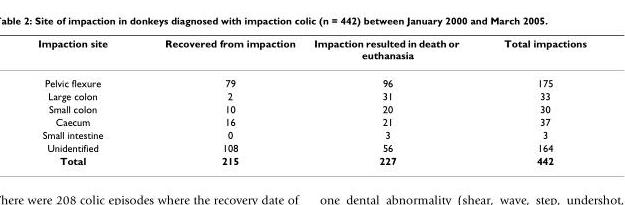table: (37, 36, 585, 166)
table column: (304, 36, 480, 166), (135, 36, 304, 166), (480, 36, 585, 166), (37, 36, 135, 166)
table column header: (37, 36, 585, 68)
table row: (37, 36, 585, 68), (37, 68, 585, 89), (37, 89, 585, 102), (37, 102, 585, 115), (37, 115, 585, 128), (37, 128, 585, 141), (37, 153, 585, 166), (37, 141, 585, 153)
